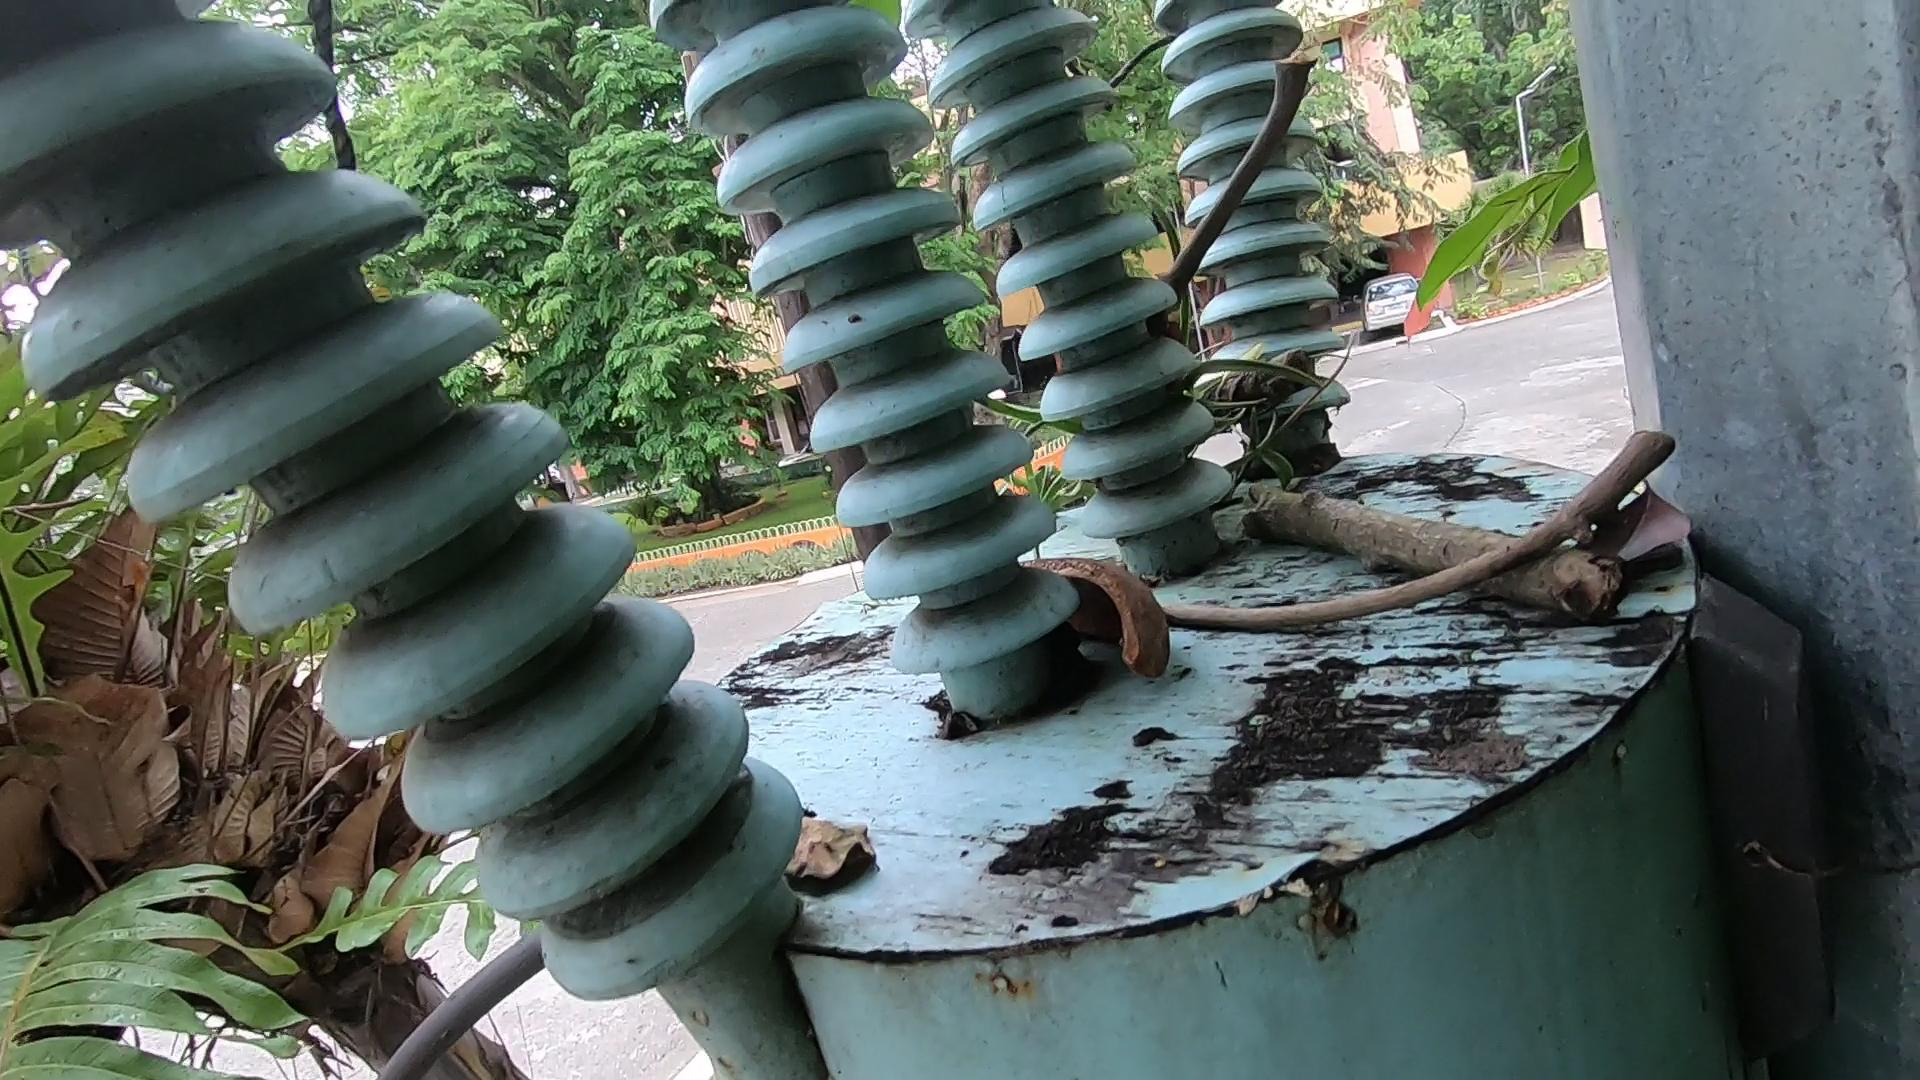branch with leaves: (1081, 320, 1701, 638)
leaf: (731, 782, 1160, 928), (1606, 471, 1729, 613)
mahogany fruit: (1026, 498, 1224, 748)
tree branch: (1133, 436, 1660, 611), (1154, 13, 1284, 336)
